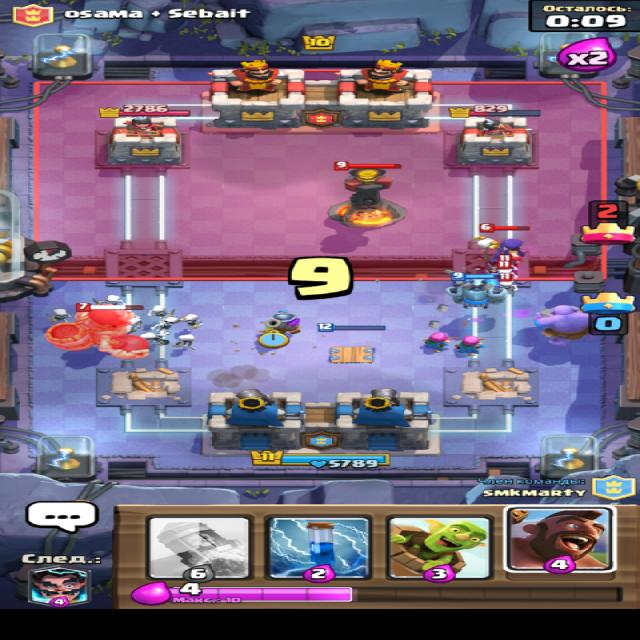Enemy-GiantSkeleton: (42, 302, 150, 359)
Enemy-InfernoTower: (322, 159, 409, 229)
Enemy-Skeleton: (496, 272, 519, 292), (486, 260, 514, 272)
Enemy-Witch: (472, 222, 524, 266)
Player-Archer: (418, 330, 454, 352), (452, 334, 487, 356)
Player-Bowler: (531, 303, 593, 347)
Player-MegaMinion: (443, 271, 513, 310)
Player-Musketeer: (261, 308, 303, 333)
Player-Skeleton: (171, 332, 200, 352), (137, 328, 171, 344), (43, 308, 72, 322), (178, 312, 202, 328), (150, 316, 178, 329), (89, 294, 124, 303), (145, 304, 168, 317)
Player-Tesla-Hidden: (314, 321, 389, 364)
